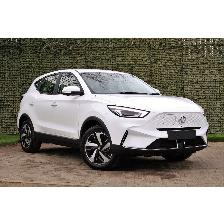EV: (20, 68, 211, 171)
